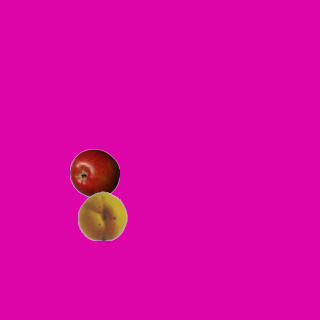Apple Braeburn: (69, 148, 119, 198)
Peach 2: (77, 190, 127, 240)
